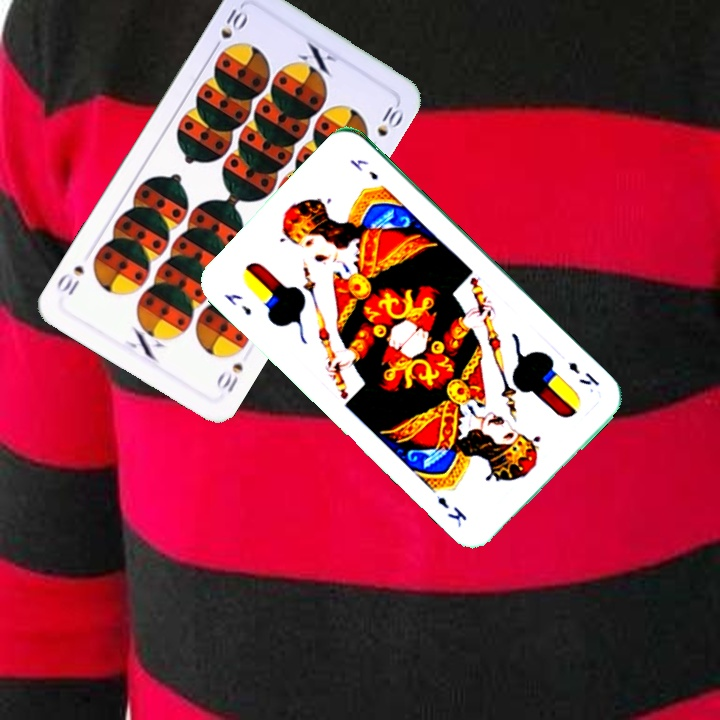EK: (564, 357, 602, 389), (220, 289, 254, 319)
S10: (208, 2, 251, 55), (212, 358, 246, 396)
